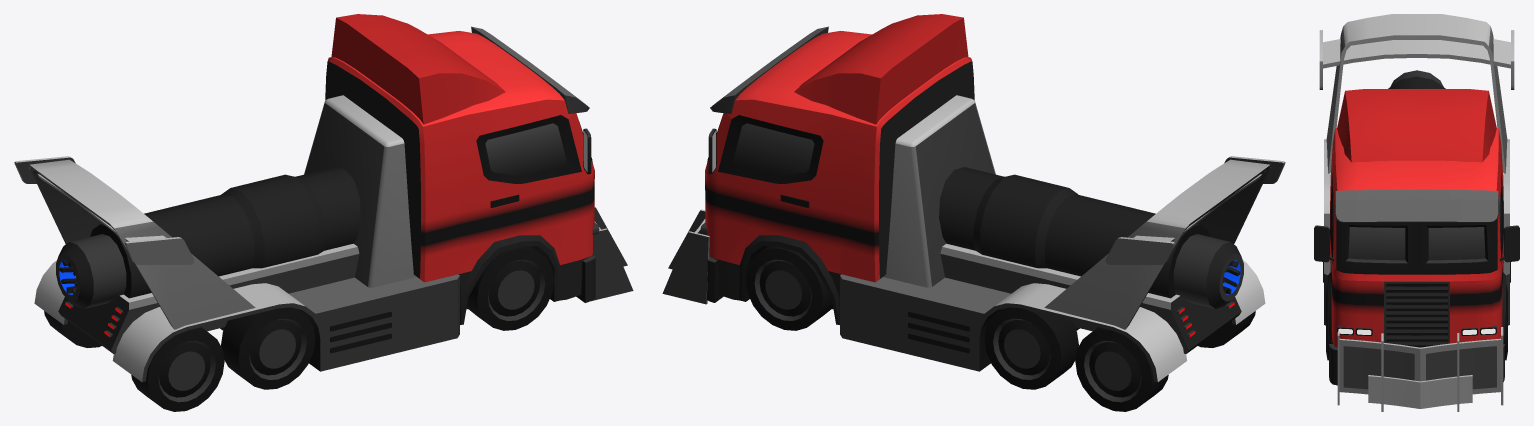
The model's file is Emergency_002.glb.
The picture shows the model from 3 angles, left to right: view 1: azimuth 30°, elevation 25°; view 2: azimuth 150°, elevation 25°; view 3: azimuth 270°, elevation 25°; orthographic projection. The views are drawn at different scales.
Parts seen in each view (by area): view 1: Emergency_002, wheel_3_Emergency_002_Wheel_2R, wheel_1_Emergency_002_Wheel_1R, wheel_5_Emergency_002_Wheel_3R, wheel_4_Emergency_002_Wheel_3L; view 2: Emergency_002, wheel_2_Emergency_002_Wheel_2L, wheel_0_Emergency_002_Wheel_1L, wheel_4_Emergency_002_Wheel_3L, wheel_5_Emergency_002_Wheel_3R; view 3: Emergency_002, wheel_0_Emergency_002_Wheel_1L, wheel_1_Emergency_002_Wheel_1R.
Part boxes in pixels (box(x1,y1,x2,y2)): Emergency_002: box(14, 14, 633, 382); wheel_3_Emergency_002_Wheel_2R: box(221, 307, 315, 389); wheel_1_Emergency_002_Wheel_1R: box(467, 246, 553, 330); wheel_5_Emergency_002_Wheel_3R: box(131, 327, 224, 411); wheel_4_Emergency_002_Wheel_3L: box(44, 311, 101, 347); Emergency_002: box(662, 14, 1285, 382); wheel_2_Emergency_002_Wheel_2L: box(984, 307, 1078, 389); wheel_0_Emergency_002_Wheel_1L: box(746, 246, 832, 330); wheel_4_Emergency_002_Wheel_3L: box(1075, 327, 1168, 411); wheel_5_Emergency_002_Wheel_3R: box(1198, 311, 1255, 347); Emergency_002: box(1314, 14, 1519, 411); wheel_0_Emergency_002_Wheel_1L: box(1503, 284, 1507, 360); wheel_1_Emergency_002_Wheel_1R: box(1326, 284, 1330, 360).
Size of the model in its own units: 7.07 by 3.3 by 2.66.
Materials: 2 (2 with a texture image).
